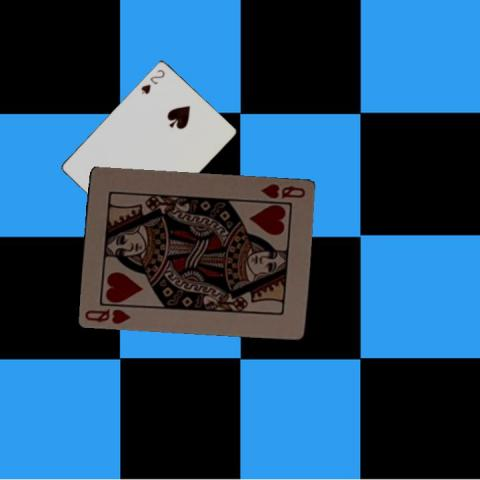2s: (138, 67, 166, 96)
Qh: (81, 305, 132, 326), (258, 180, 307, 200)
